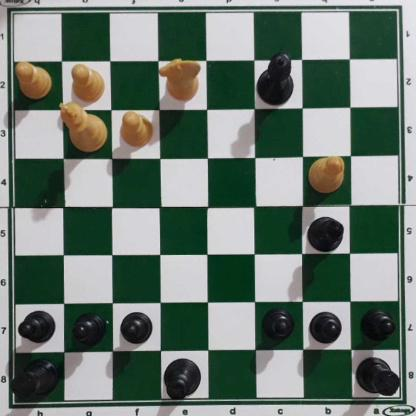black-bishop: (307, 216, 345, 252)
black-king: (163, 358, 204, 401)
black-pawn: (20, 311, 56, 347), (362, 312, 396, 345), (121, 314, 153, 349), (73, 315, 105, 349), (312, 312, 343, 346), (264, 311, 295, 345)
black-queen: (257, 51, 293, 108)
black-rook: (9, 360, 58, 402), (355, 358, 403, 400)
white-bishop: (309, 155, 346, 195)
white-king: (58, 102, 107, 151)
white-knight: (159, 59, 203, 102)
white-pawn: (69, 63, 107, 103), (16, 63, 53, 101), (120, 113, 154, 150)
